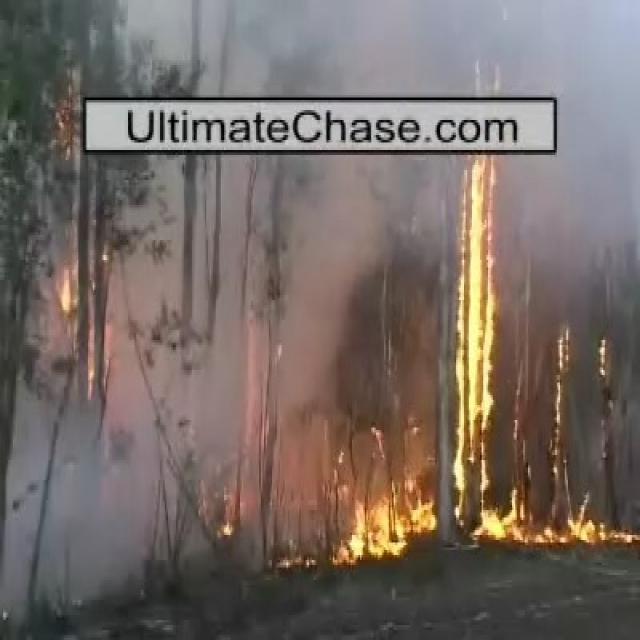fire: (455, 160, 498, 499), (352, 502, 436, 554)
smoke: (18, 398, 102, 604), (514, 10, 623, 92)
